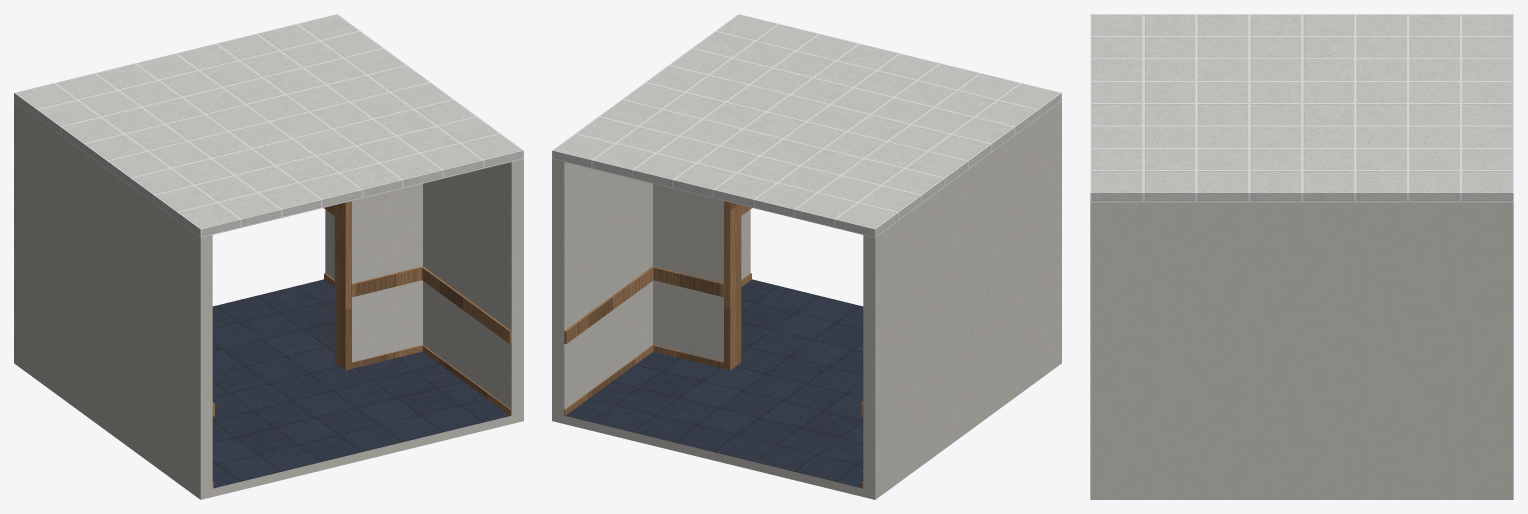
The model's file is Corridor_Office_Door_NoLight.glb.
3 renders of one model, left to right at view 1: azimuth 30°, elevation 25°; view 2: azimuth 150°, elevation 25°; view 3: azimuth 270°, elevation 25°, orthographic. The views are drawn at different scales.
Visible parts, largest first — view 1: Corridor_Office_Door_NoLight, Corridor_Office_Door_NoLight_Ceiling; view 2: Corridor_Office_Door_NoLight, Corridor_Office_Door_NoLight_Ceiling; view 3: Corridor_Office_Door_NoLight, Corridor_Office_Door_NoLight_Ceiling.
Part boxes in pixels (x1,y1,x2,y2): Corridor_Office_Door_NoLight: [14, 101, 523, 499]; Corridor_Office_Door_NoLight_Ceiling: [14, 14, 523, 237]; Corridor_Office_Door_NoLight: [552, 101, 1061, 499]; Corridor_Office_Door_NoLight_Ceiling: [552, 14, 1061, 237]; Corridor_Office_Door_NoLight: [1090, 202, 1513, 499]; Corridor_Office_Door_NoLight_Ceiling: [1090, 14, 1513, 202].
Size of the model in its own units: 4 by 3.2 by 4.
Materials: 4 (4 with a texture image).
